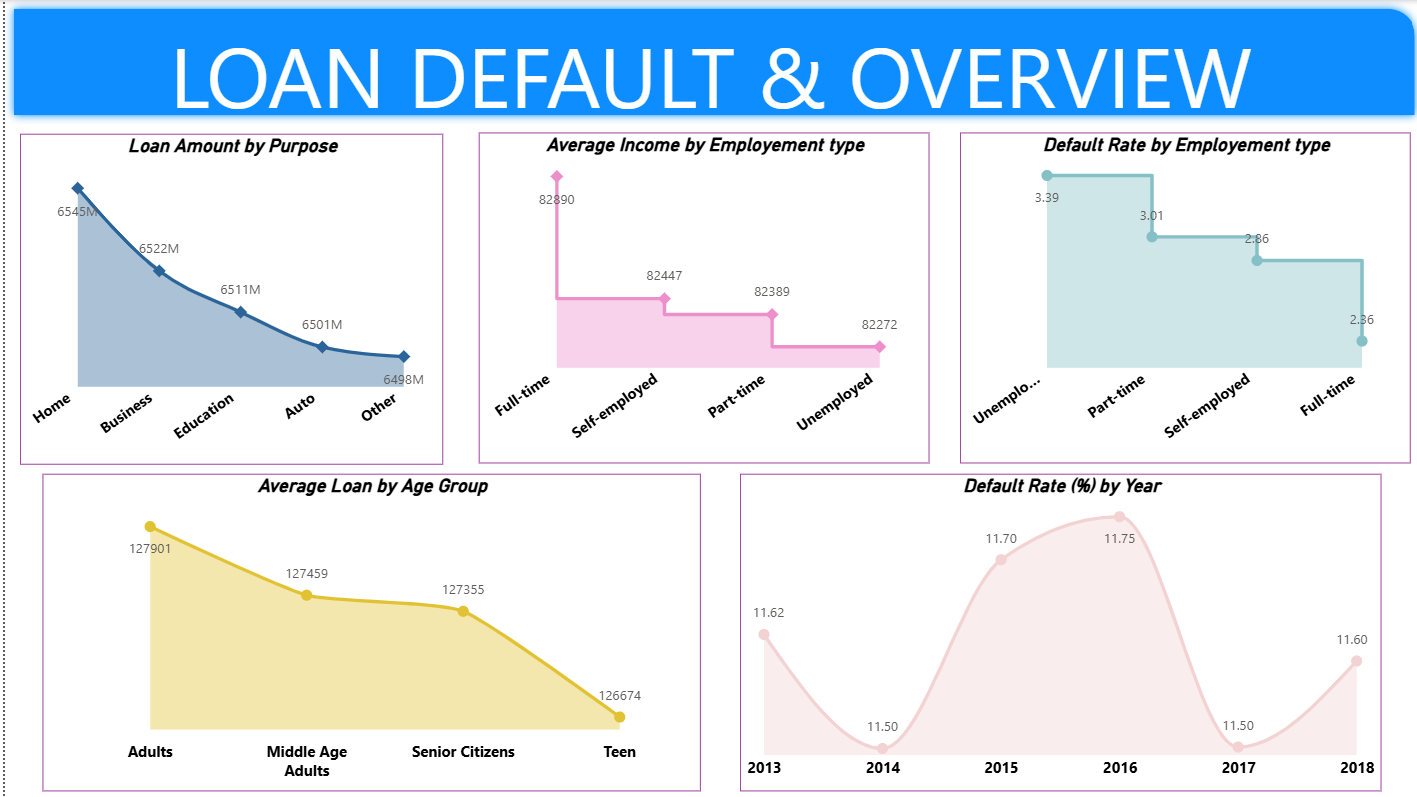

The page's visual inventory and layout, read from the dashboard file:
{"tool":"powerbi","page":{"name":"LOAN DEFAULT & OVERVIEW","canvas":[1280,720],"ordinal":0},"visuals":[{"type":"shape","box":[0,0,1280,112],"z":0},{"type":"lineChart","title":"Loan Amount by Purpose ","fields":{"Y":["MEASURES Table.Loan Amount by Purpose"],"Category":["Loan_default (1).LoanPurpose"]},"box":[13.7,120.7,381.9,298.6],"z":1000},{"type":"lineChart","title":"Average Income by Employement type","fields":{"Category":["Loan_default (1).EmploymentType"],"Y":["MEASURES Table.Average Income By Employement type"]},"box":[426.7,119.4,406.8,298.6],"z":2000},{"type":"lineChart","title":"Default Rate  by Employement type","fields":{"Y":["MEASURES Table.Default Rate by Employement type"],"Category":["Loan_default (1).EmploymentType"]},"box":[860.8,119.4,406.8,298.6],"z":3000},{"type":"lineChart","title":"Average Loan by Age  Group","fields":{"Y":["MEASURES Table.Average Loan by Age Group"],"Category":["Loan_default (1).Age Groups"]},"box":[33.6,426.7,593.4,286.1],"z":4000},{"type":"lineChart","title":"Default Rate (%) by Year","fields":{"Y":["MEASURES Table.Default Rate by Year"],"Category":["Loan_default (1).Year"]},"box":[663,426.7,578.4,286.1],"z":5000}]}

Visuals, with their boxes in screenshot pixels (x1, y1, x2, y2), scaled from the page's 1280x720 canvas onto the 1417x797 screenshot:
shape: 0, 0, 1416, 124
"Loan Amount by Purpose " lineChart: 15, 134, 438, 464
"Average Income by Employement type" lineChart: 472, 132, 923, 463
"Default Rate  by Employement type" lineChart: 953, 132, 1403, 463
"Average Loan by Age  Group" lineChart: 37, 472, 694, 789
"Default Rate (%) by Year" lineChart: 734, 472, 1374, 789
